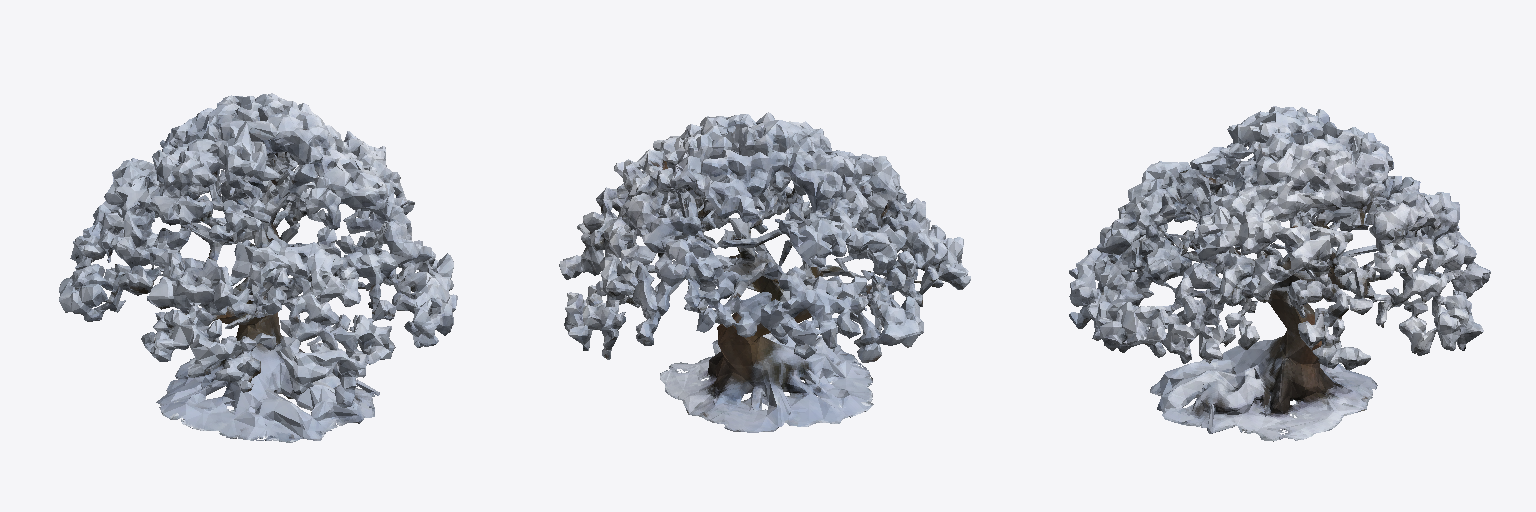
3 renders of one model, left to right at view 1: azimuth 30°, elevation 25°; view 2: azimuth 150°, elevation 25°; view 3: azimuth 270°, elevation 25°, orthographic.
Visible parts, largest first — view 1: winter-tree8_LOW_RES; view 2: winter-tree8_LOW_RES; view 3: winter-tree8_LOW_RES.
Part boxes in pixels (left/top/right/bottom): winter-tree8_LOW_RES: left=59, top=93, right=457, bottom=442; winter-tree8_LOW_RES: left=559, top=112, right=970, bottom=432; winter-tree8_LOW_RES: left=1069, top=106, right=1490, bottom=441.
Size of the model in its own units: 14.32 by 10.79 by 14.99.
1 materials, 1 textured.